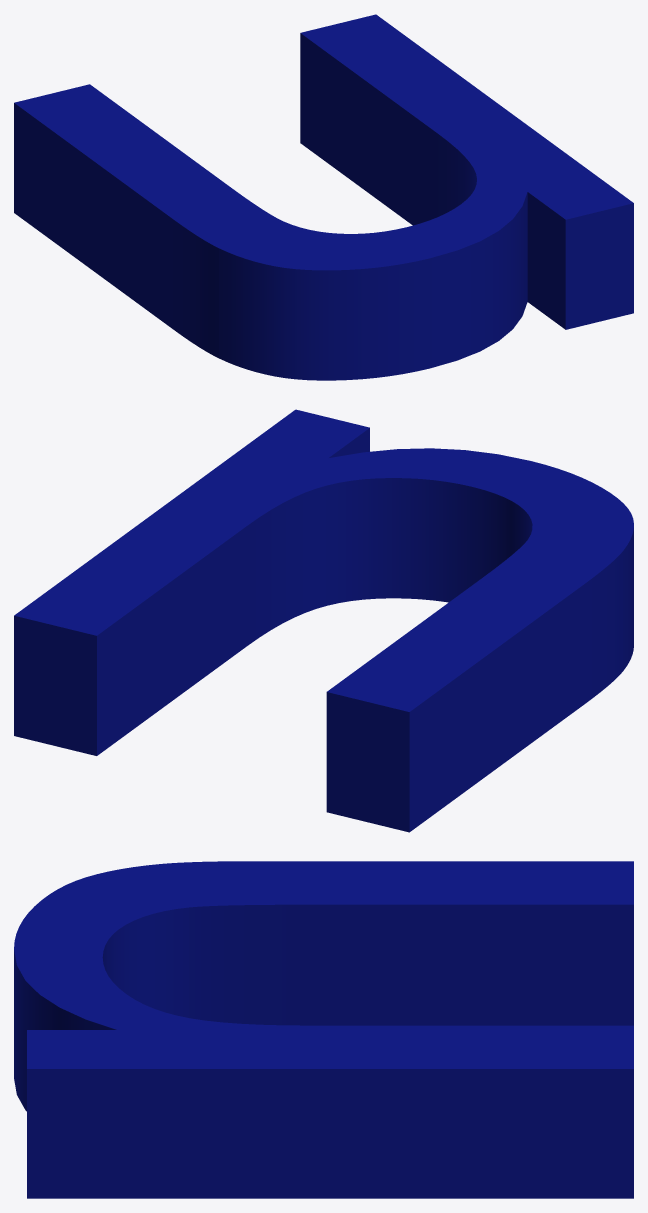
3 views of the same model, one above another, from view 1: azimuth 30°, elevation 25°; view 2: azimuth 150°, elevation 25°; view 3: azimuth 270°, elevation 25° (orthographic). The views are drawn at different scales.
Parts seen in each view (by area): view 1: TextPlus047; view 2: TextPlus047; view 3: TextPlus047.
Part boxes in pixels (x1,y1,x2,y2): TextPlus047: [14, 14, 633, 380]; TextPlus047: [14, 409, 633, 832]; TextPlus047: [14, 861, 633, 1198].
Size of the model in its own units: 15.08 by 4.38 by 19.
